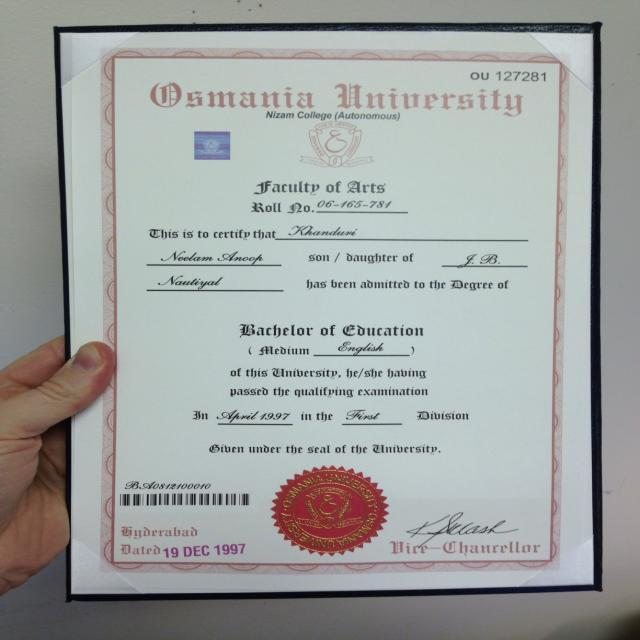degree: (239, 319, 437, 346)
signature: (404, 511, 538, 556)
stamp: (263, 463, 394, 558)
